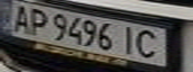4: (63, 16, 84, 45)
6: (97, 20, 118, 52)
9: (45, 11, 72, 42), (78, 18, 100, 47)
A: (6, 1, 36, 34)
C: (133, 27, 166, 60)
I: (115, 25, 139, 56)
P: (24, 7, 51, 37)
